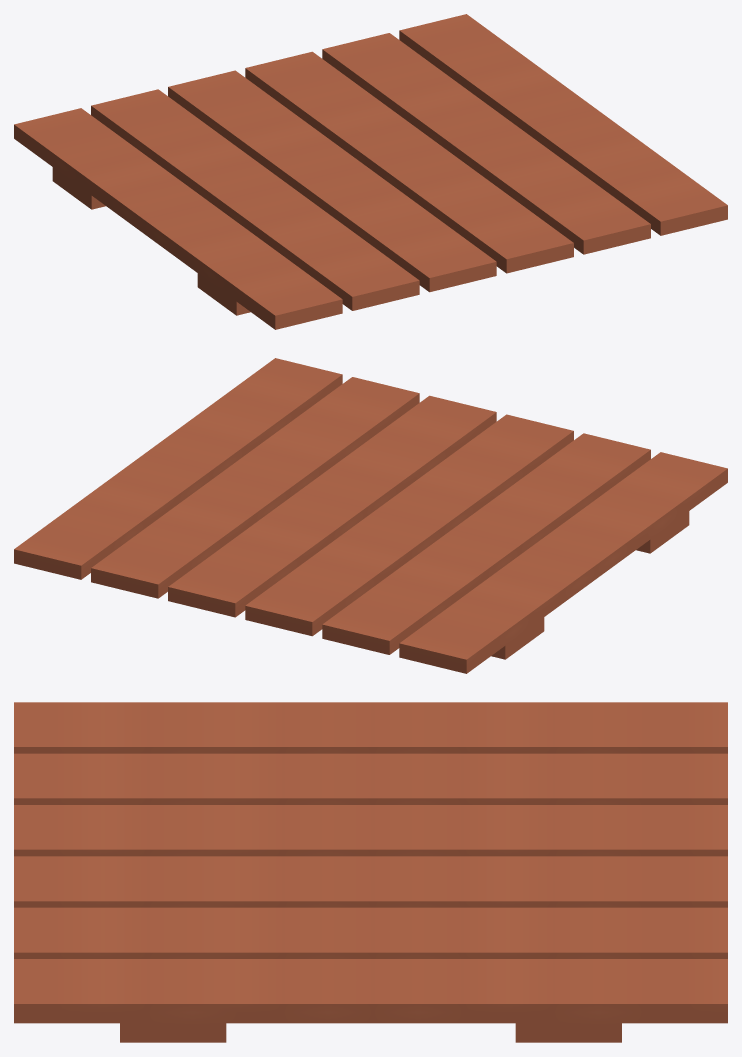
Rendered from planks.fbx.
3 views of the same model, one above another, from view 1: azimuth 30°, elevation 25°; view 2: azimuth 150°, elevation 25°; view 3: azimuth 270°, elevation 25° (orthographic). The views are drawn at different scales.
Visible parts, largest first — view 1: planks; view 2: planks; view 3: planks.
Boxes of the visible parts, x1,y1,x2,y2 form: planks: (14,14,727,329); planks: (14,358,727,673); planks: (14,702,727,1042).
Size of the model in its own units: 1 by 1 by 0.06.
